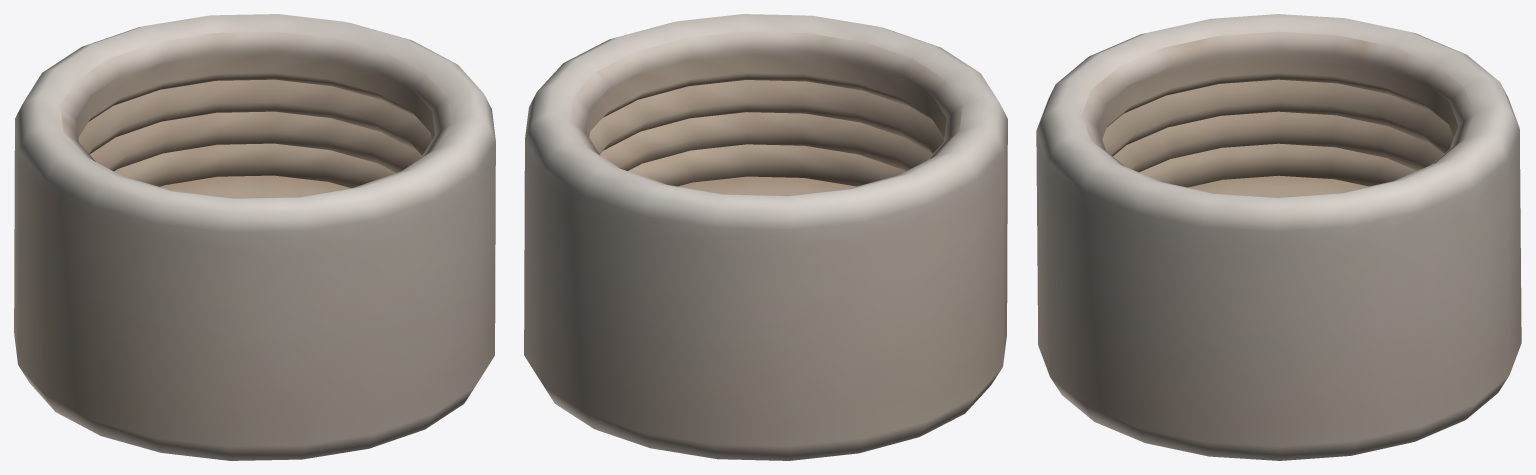
The model's file is SM_PaintTube_Top.fbx.
3 views of the same model, side by side, from view 1: azimuth 30°, elevation 25°; view 2: azimuth 150°, elevation 25°; view 3: azimuth 270°, elevation 25° (orthographic).
Parts seen in each view (by area): view 1: SM_PaintTube_Top_LOD0; view 2: SM_PaintTube_Top_LOD0; view 3: SM_PaintTube_Top_LOD0.
Boxes of the visible parts, x1,y1,x2,y2 form: SM_PaintTube_Top_LOD0: (14,14,495,460); SM_PaintTube_Top_LOD0: (524,14,1007,460); SM_PaintTube_Top_LOD0: (1036,14,1521,460).
Bounding box in the file's own units: 3.18 × 3.2 × 1.94.
Materials: 1 (1 with a texture image).
